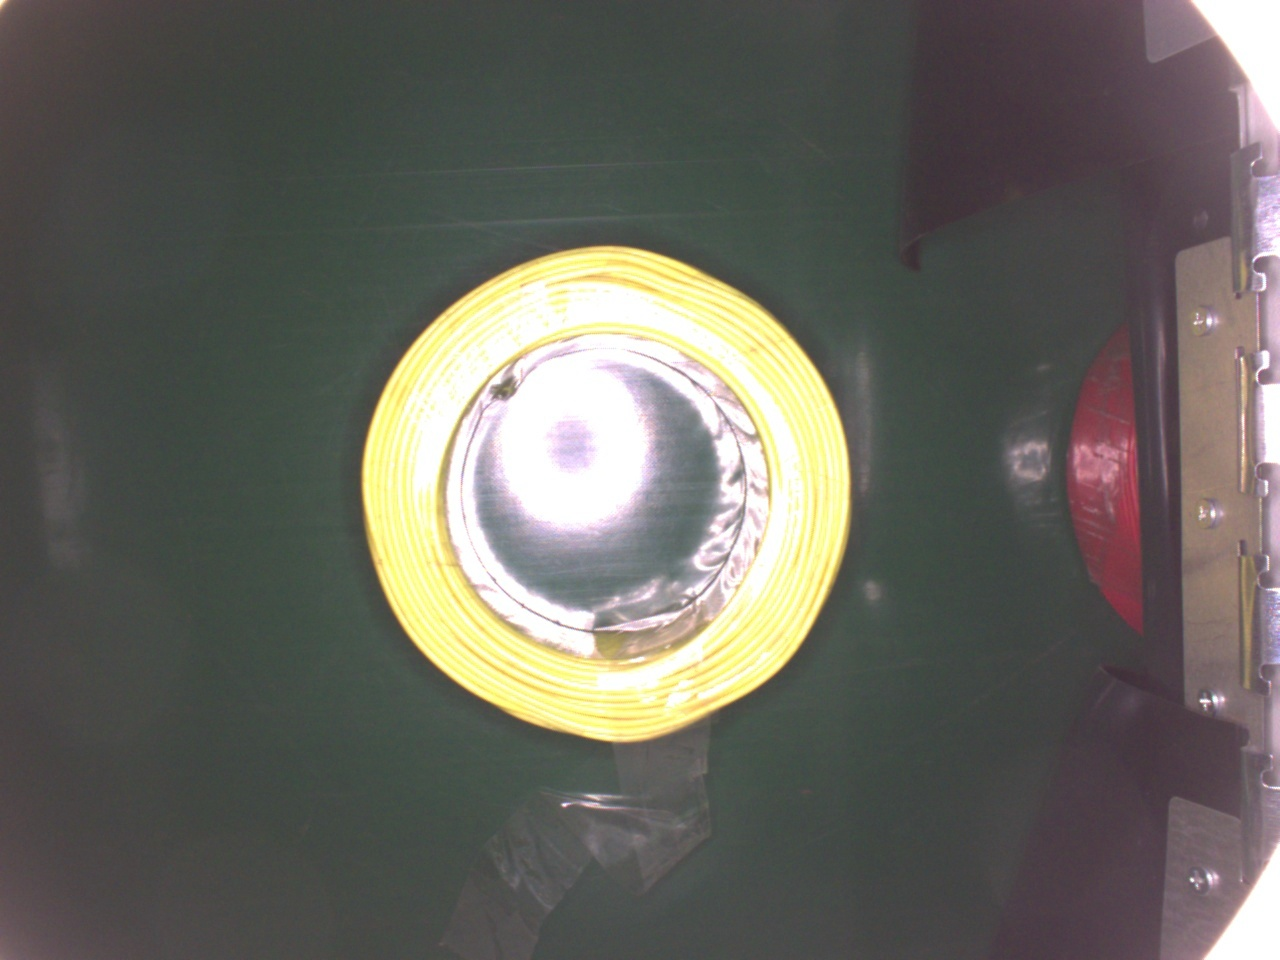yellow: (356, 242, 849, 735)
